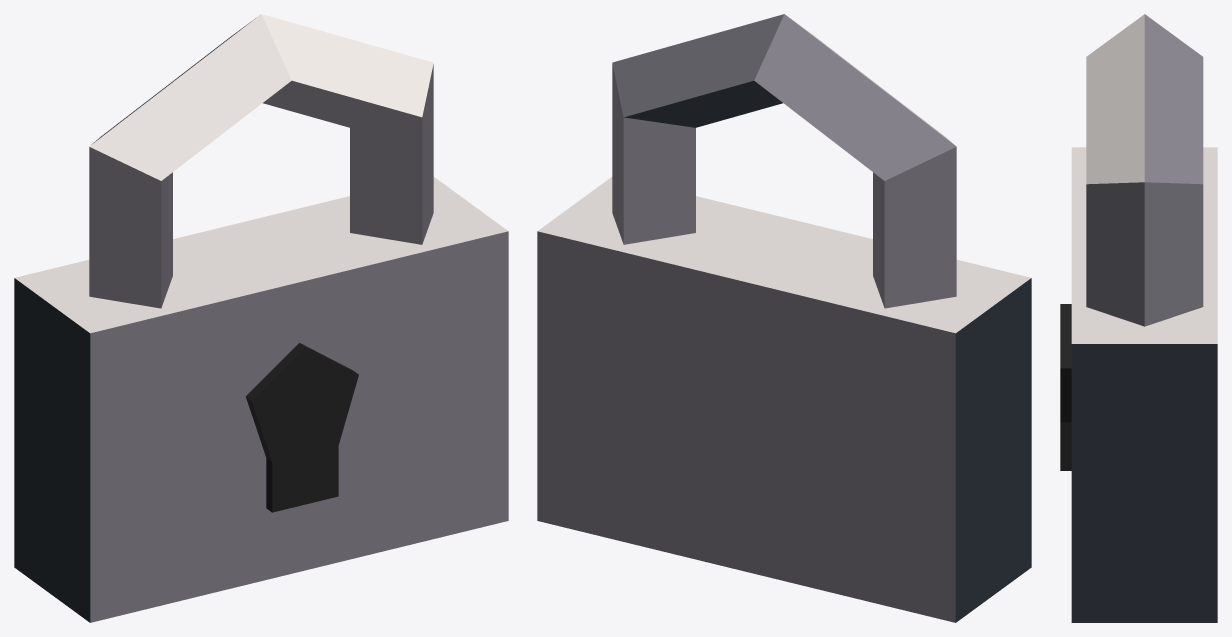
File: TB_D_Prop_Chest_Lock_A.FBX
3 views of the same model, side by side, from view 1: azimuth 30°, elevation 25°; view 2: azimuth 150°, elevation 25°; view 3: azimuth 270°, elevation 25° (orthographic). The views are drawn at different scales.
Parts seen in each view (by area): view 1: TB_D_Prop_Chest_Lock_A; view 2: TB_D_Prop_Chest_Lock_A; view 3: TB_D_Prop_Chest_Lock_A.
Boxes of the visible parts, x1=… form: TB_D_Prop_Chest_Lock_A: x1=14, y1=14, x2=508, y2=622; TB_D_Prop_Chest_Lock_A: x1=537, y1=14, x2=1031, y2=622; TB_D_Prop_Chest_Lock_A: x1=1060, y1=14, x2=1217, y2=622.
Bounding box in the file's own units: 0.2268 × 0.2746 × 0.0768.
